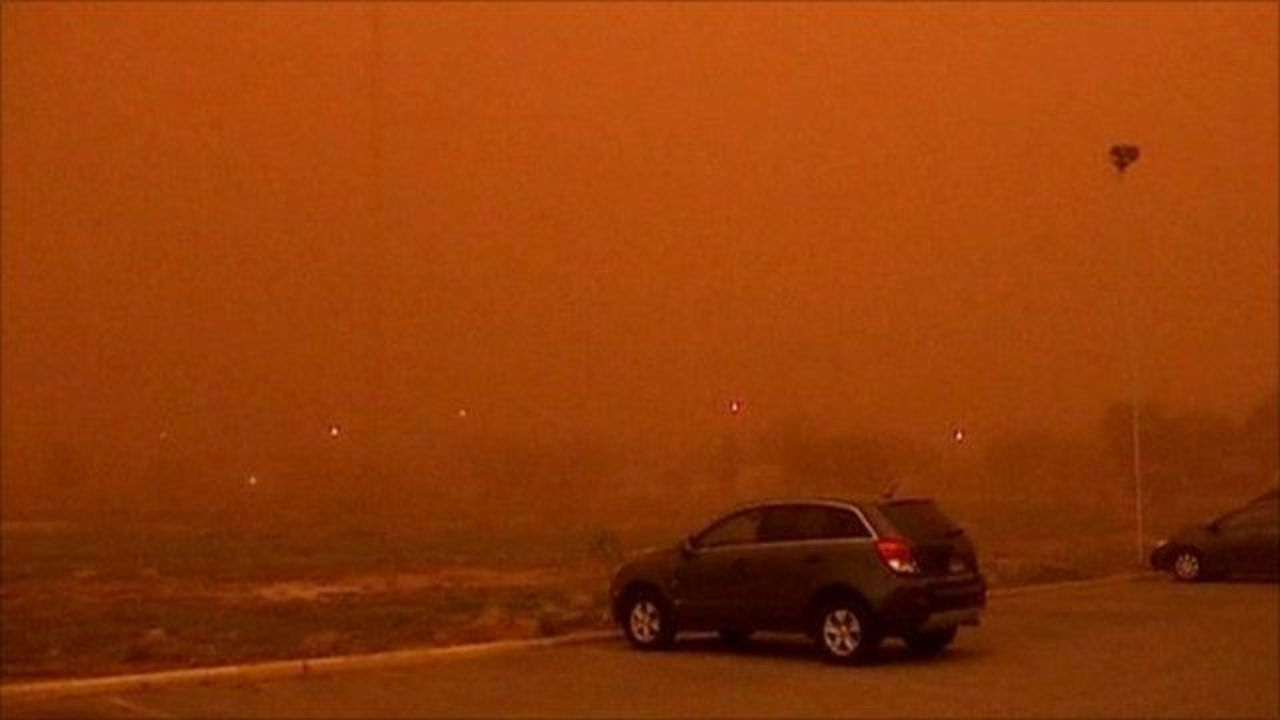car: (607, 495, 991, 664), (1148, 480, 1279, 583)
